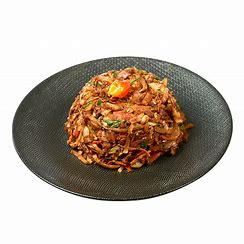Kottu: (59, 65, 207, 175)
